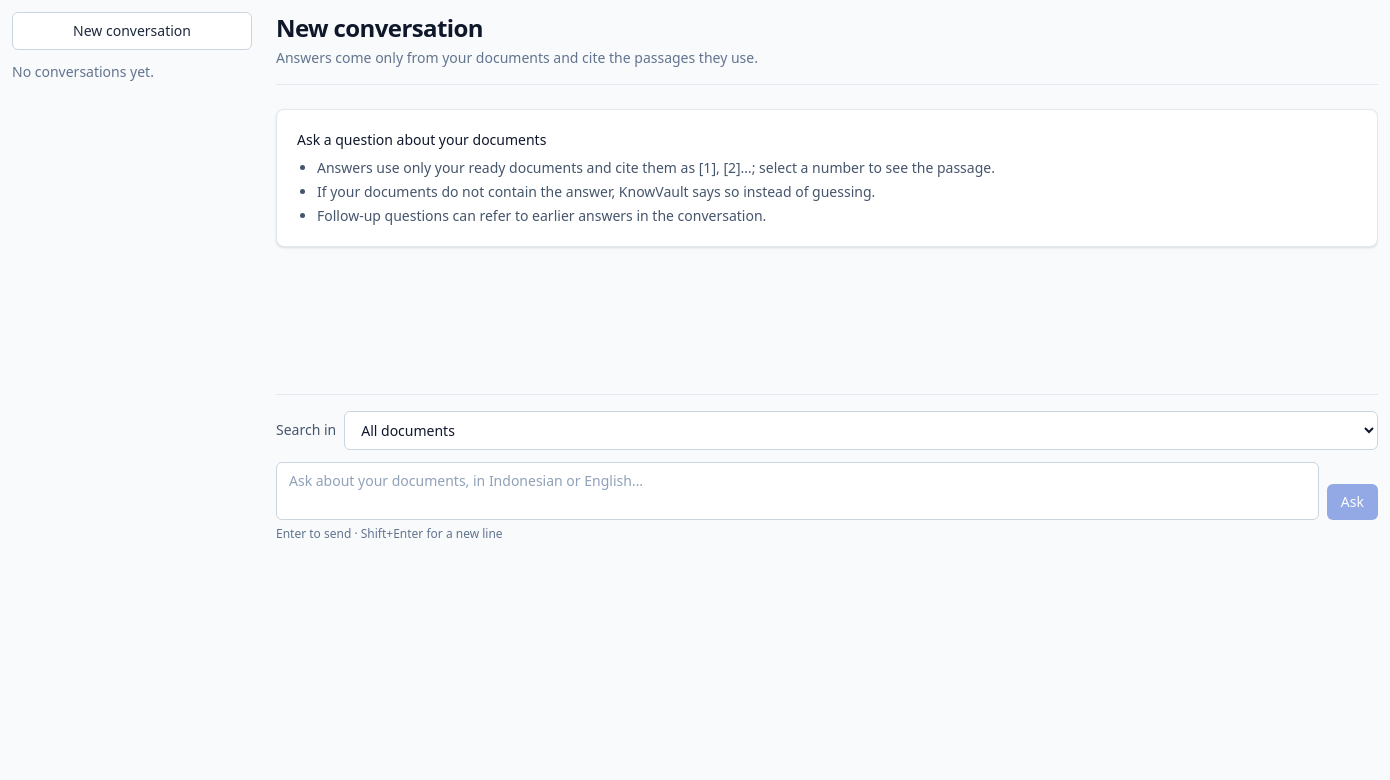
Test: new conversation › creates the conversation, streams the answer and keeps it after reload
Select "HR" in the dropdown labelled "Search in". click: [861, 430]
box: [344,411,1378,450]
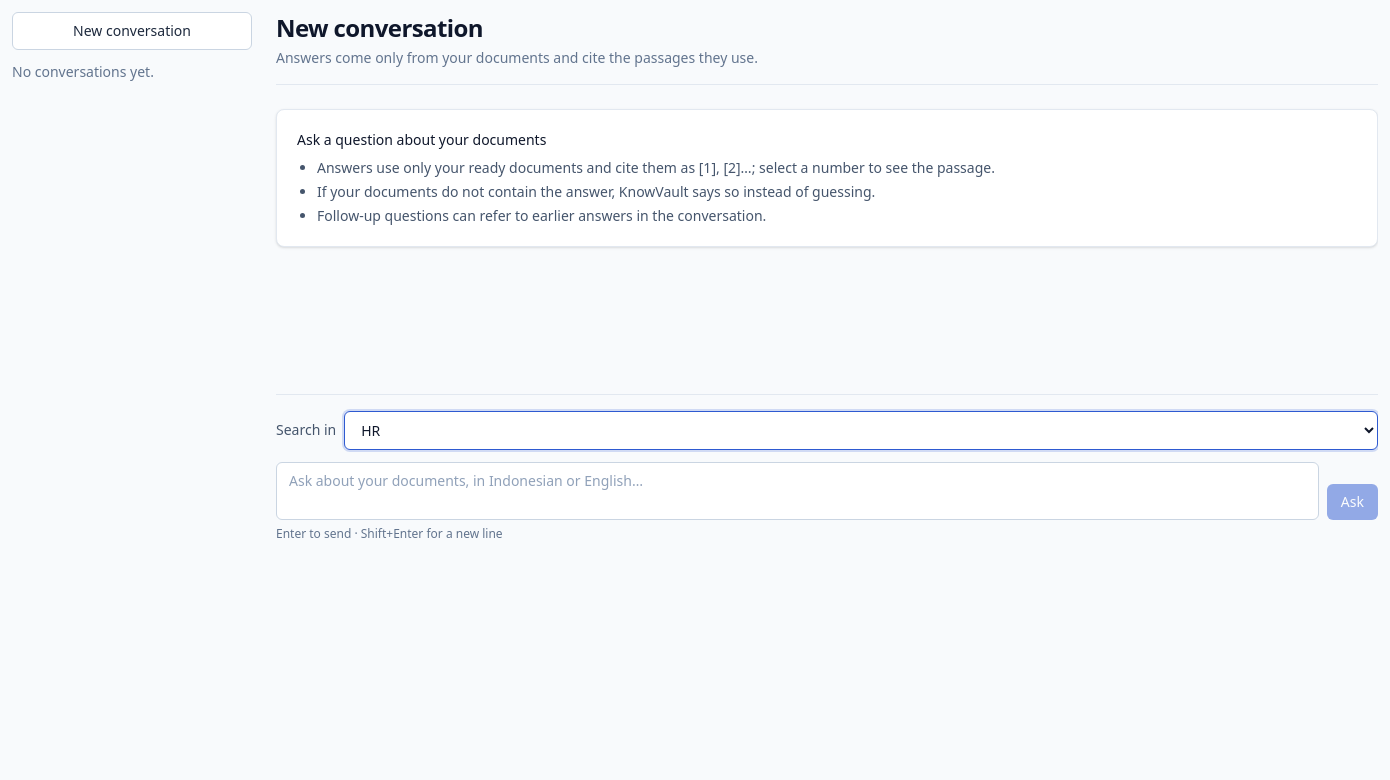
Type "How many days of leave?" into the text box named "Your question". click: [797, 491]
box: [276,462,1319,520]
Then press Enter
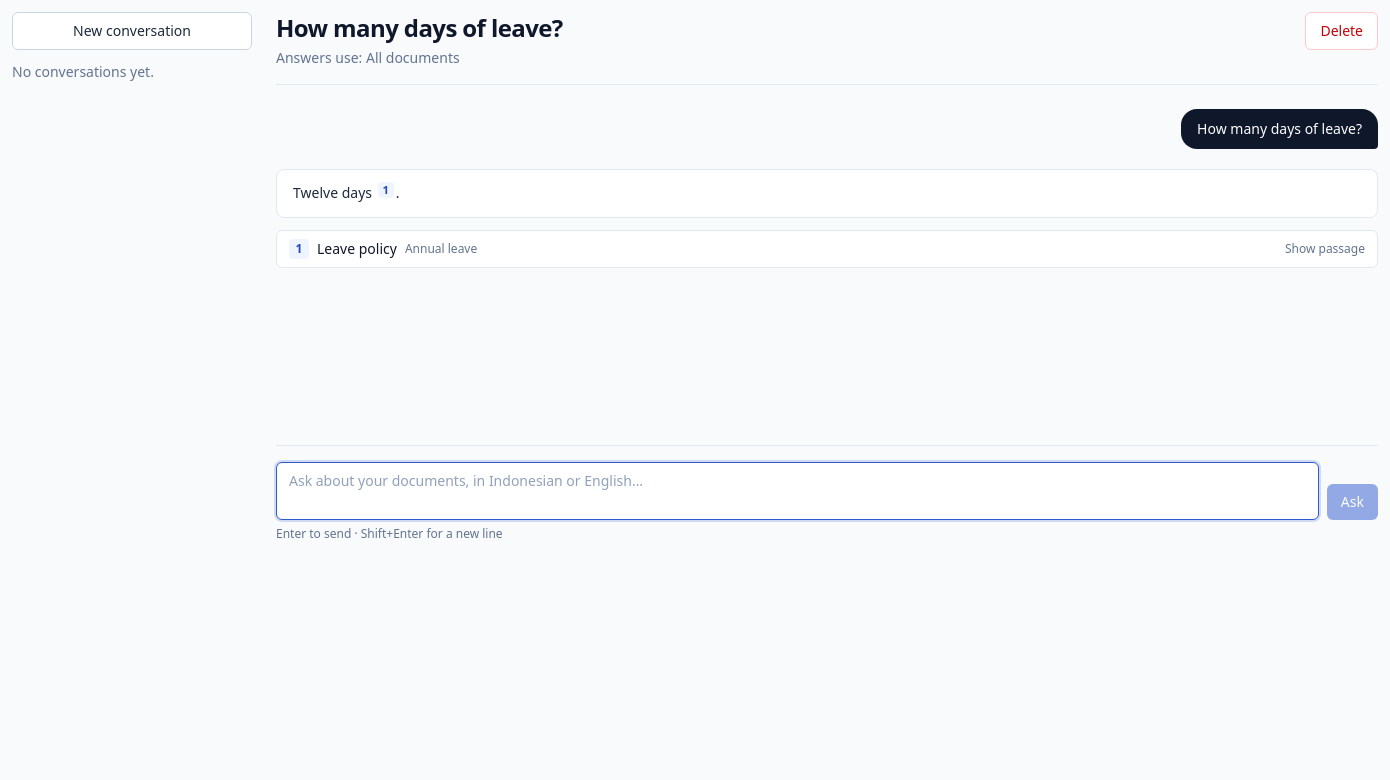
Check: the button named "Show source 1" is shown, box [378,182,394,198]
Check: the element named "Answer" shows "Twelve days", box [293,183,376,202]
Check: the heading "How many days of leave?" is shown, box [276,12,563,44]
